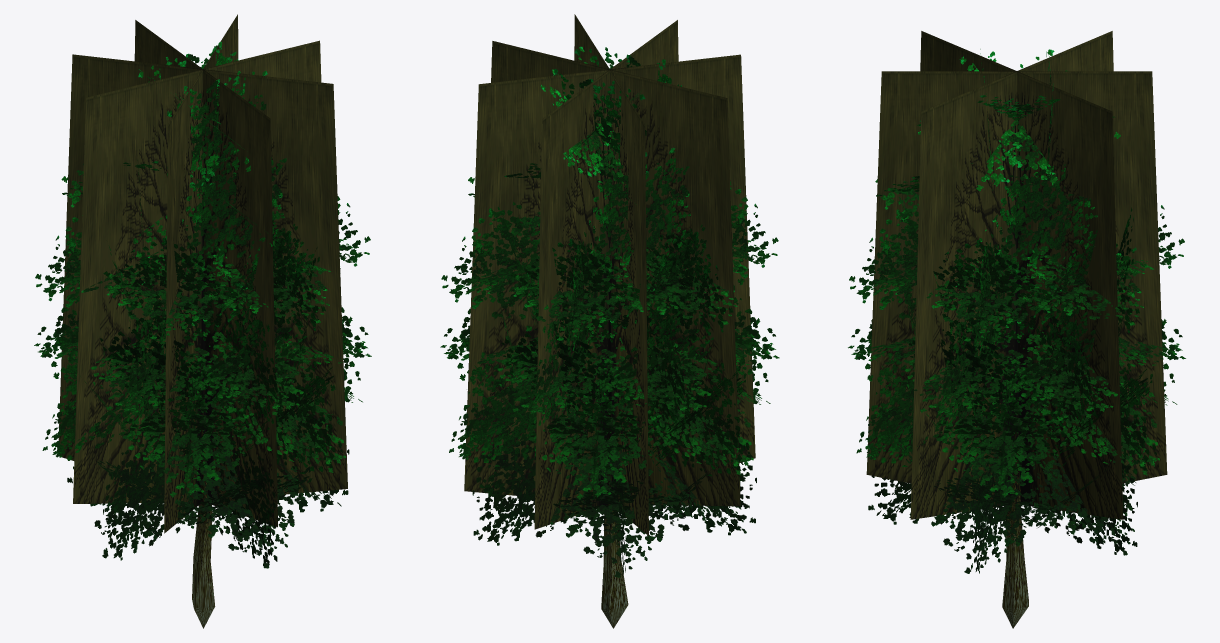
File: els_3.fbx
3 renders of one model, left to right at view 1: azimuth 30°, elevation 25°; view 2: azimuth 150°, elevation 25°; view 3: azimuth 270°, elevation 25°, orthographic.
Visible parts, largest first — view 1: els_3; view 2: els_3; view 3: els_3.
Boxes of the visible parts, box(x1,y1,x2,y2) form: els_3: box(34, 14, 371, 628); els_3: box(440, 14, 779, 628); els_3: box(848, 31, 1185, 628).
Bounding box in the file's own units: 1253 × 2119 × 1274.
